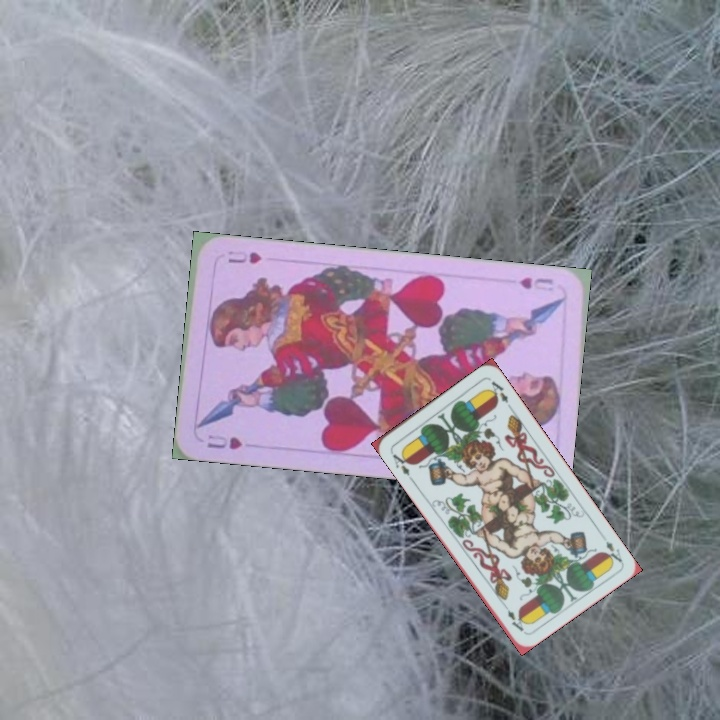EA: (386, 447, 415, 483), (601, 537, 625, 567)
HU: (203, 430, 245, 452), (515, 273, 556, 294)
